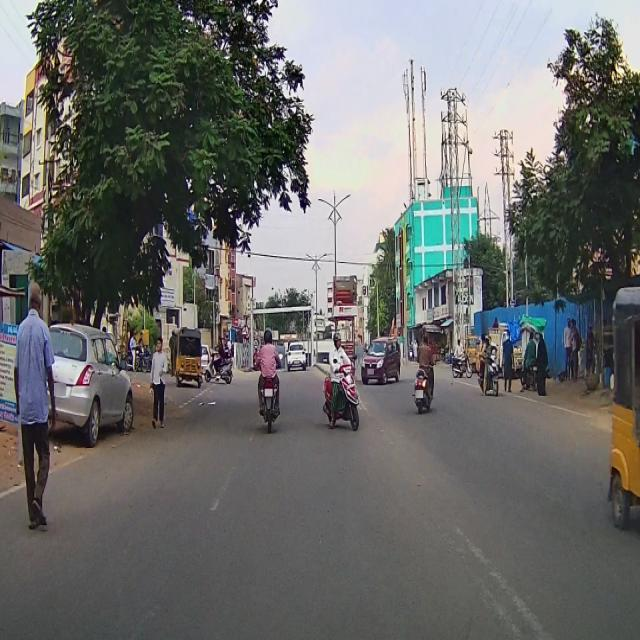motorcycle ahead at: (323, 361, 368, 442), (256, 370, 286, 433)
person ahead at: (15, 280, 56, 528), (150, 334, 168, 433)
